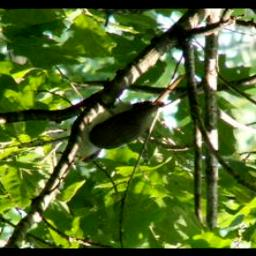Cuckoo: (69, 73, 187, 167)
